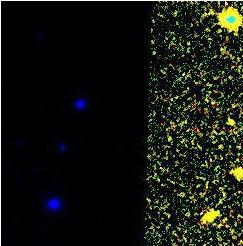star: (191, 203, 221, 233)
